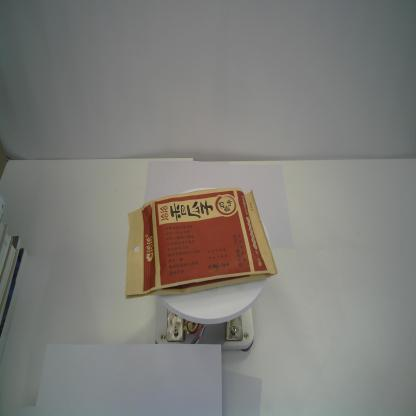Dried Food: (124, 186, 278, 301)
